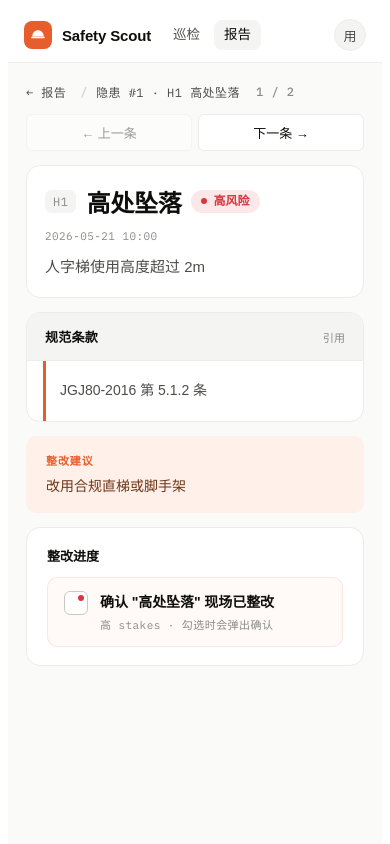
Test: ReportDetail (B6) › clicking the step opens confirm sheet (high stakes)
Expected: the text "高处坠落" is shown, [86,184,181,219]
Click the checkbox named "确认 \"高处坠落\" 现场已整改" at (76, 604), box [64,592,88,616]
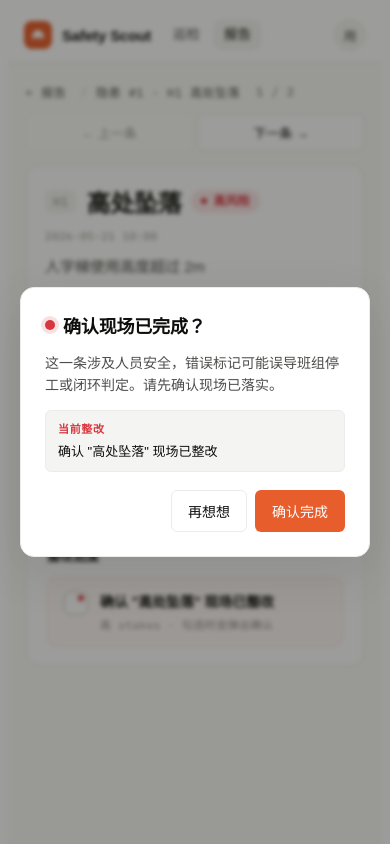
Result: the text "确认现场已完成？" is shown at [63,317,206,337]
